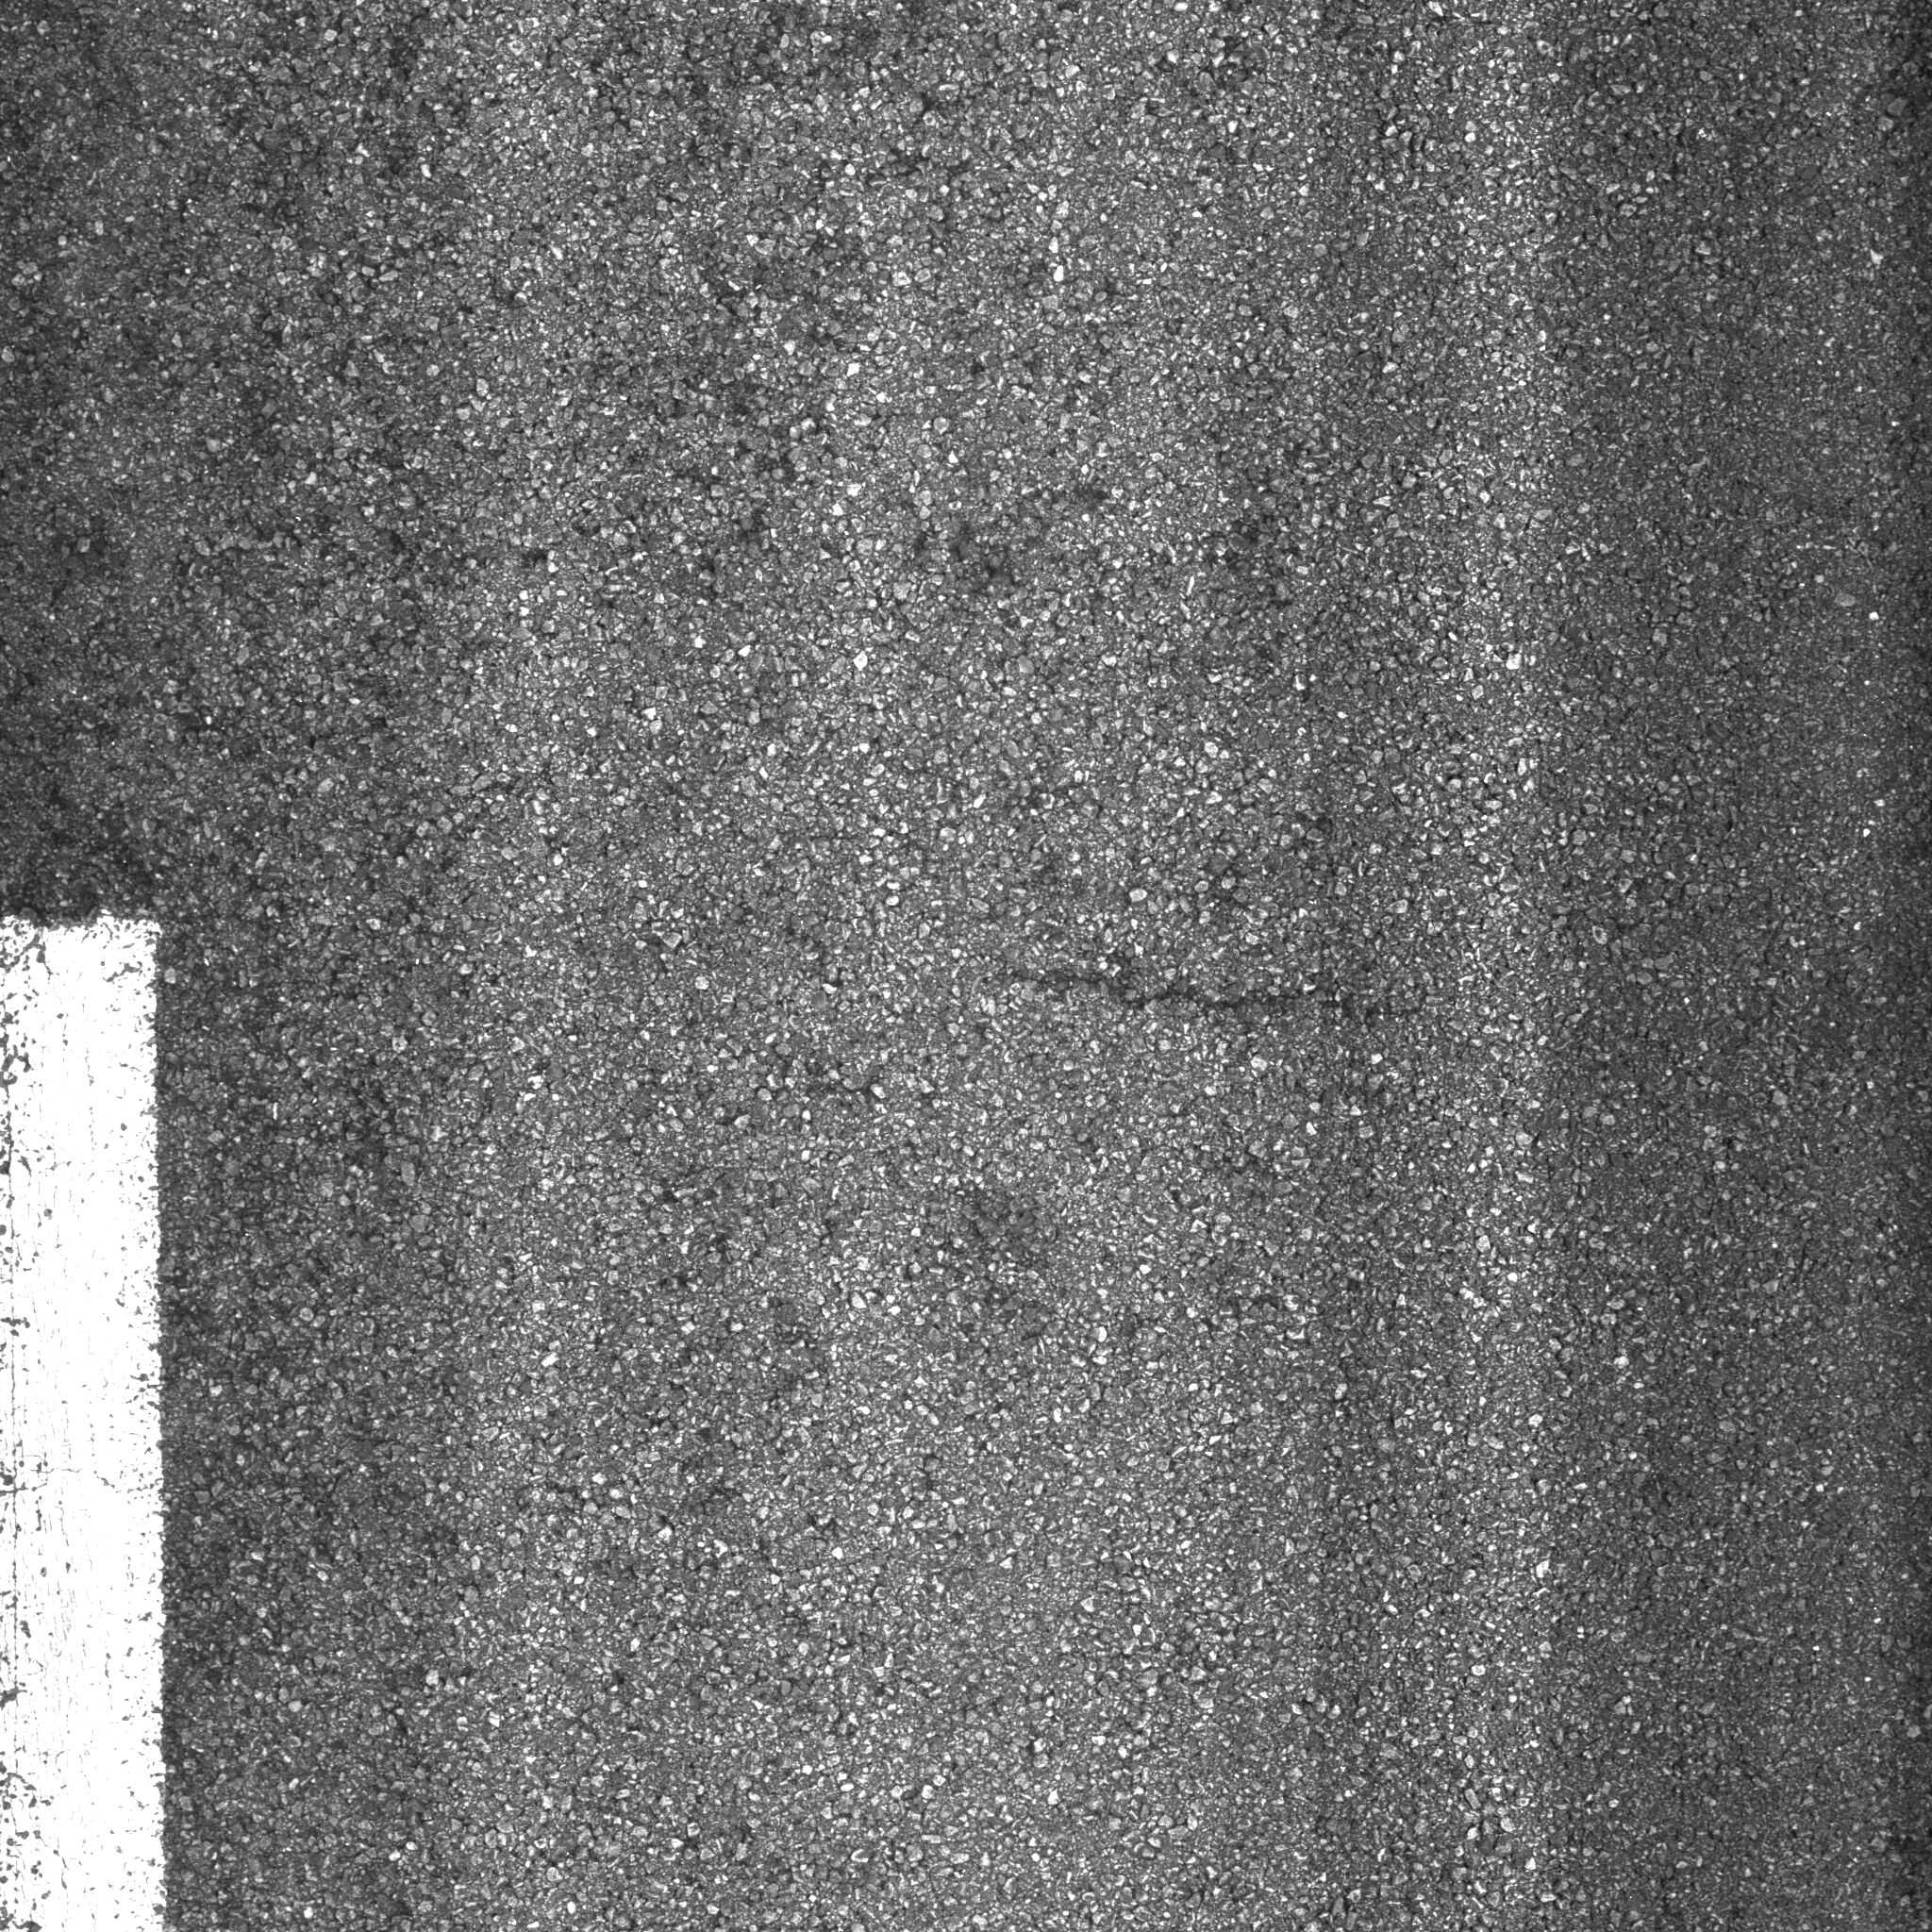transeverse: (970, 927, 1509, 1083)
